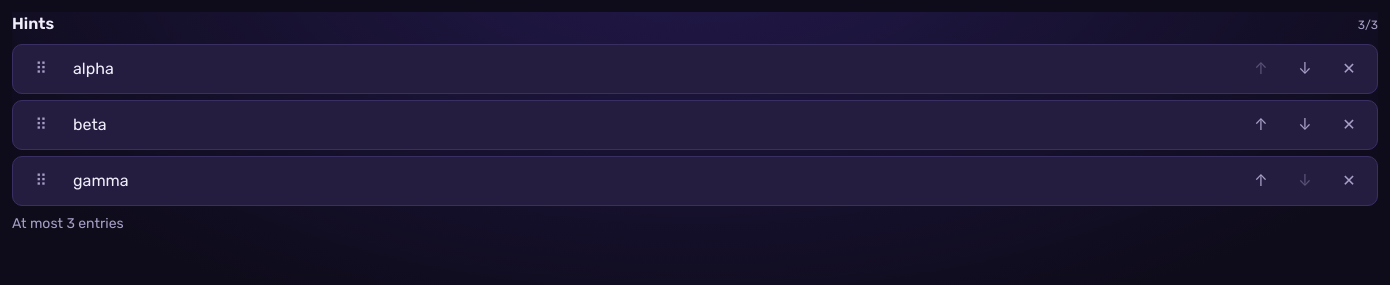
Test: ListEditor (FR-A12) › deletes at once and Undo re-adds the entry at its place
This screenshot has width=1390, height=285.
Click the button named "Delete “beta”" at (1349, 125), box [1329,105,1369,145]
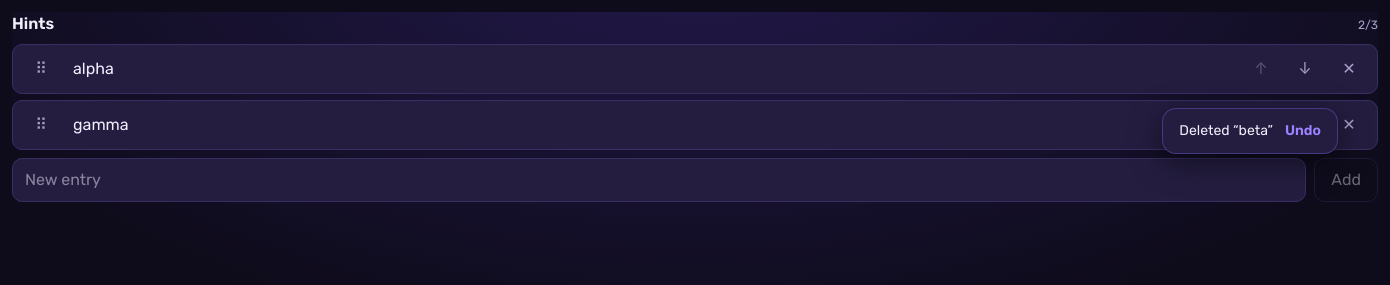
Click the button "Undo" at (1303, 131), box [1285,121,1321,141]
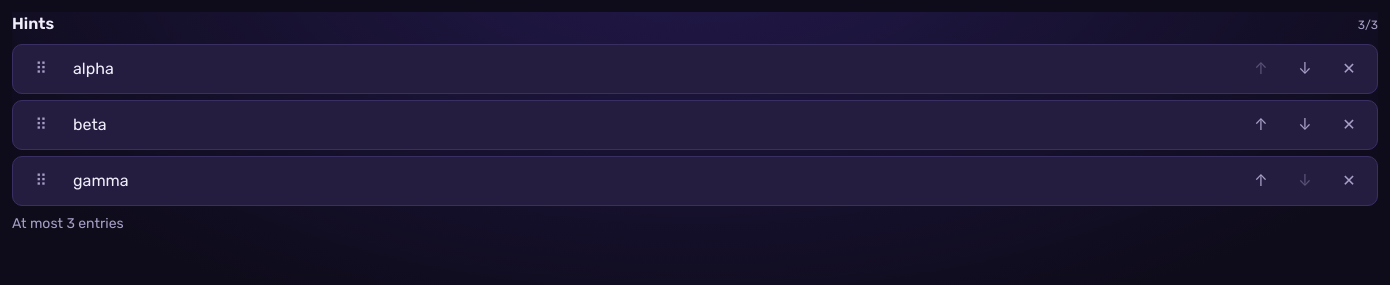
Expected: the number of list items is 3, [12,44,1378,94]; [12,100,1378,150]; [12,156,1378,206]
